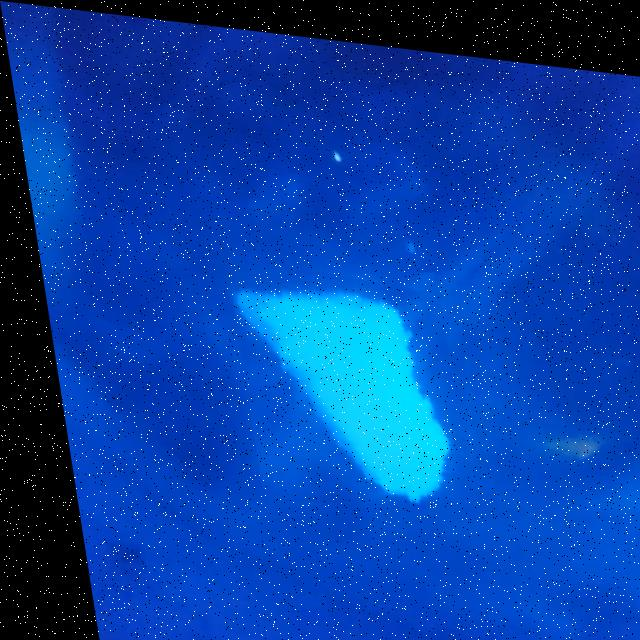litter: (218, 248, 480, 512)
